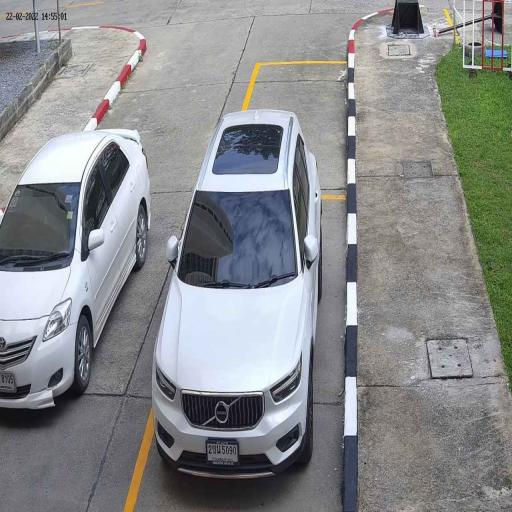car: (153, 107, 322, 483), (0, 126, 152, 412)
